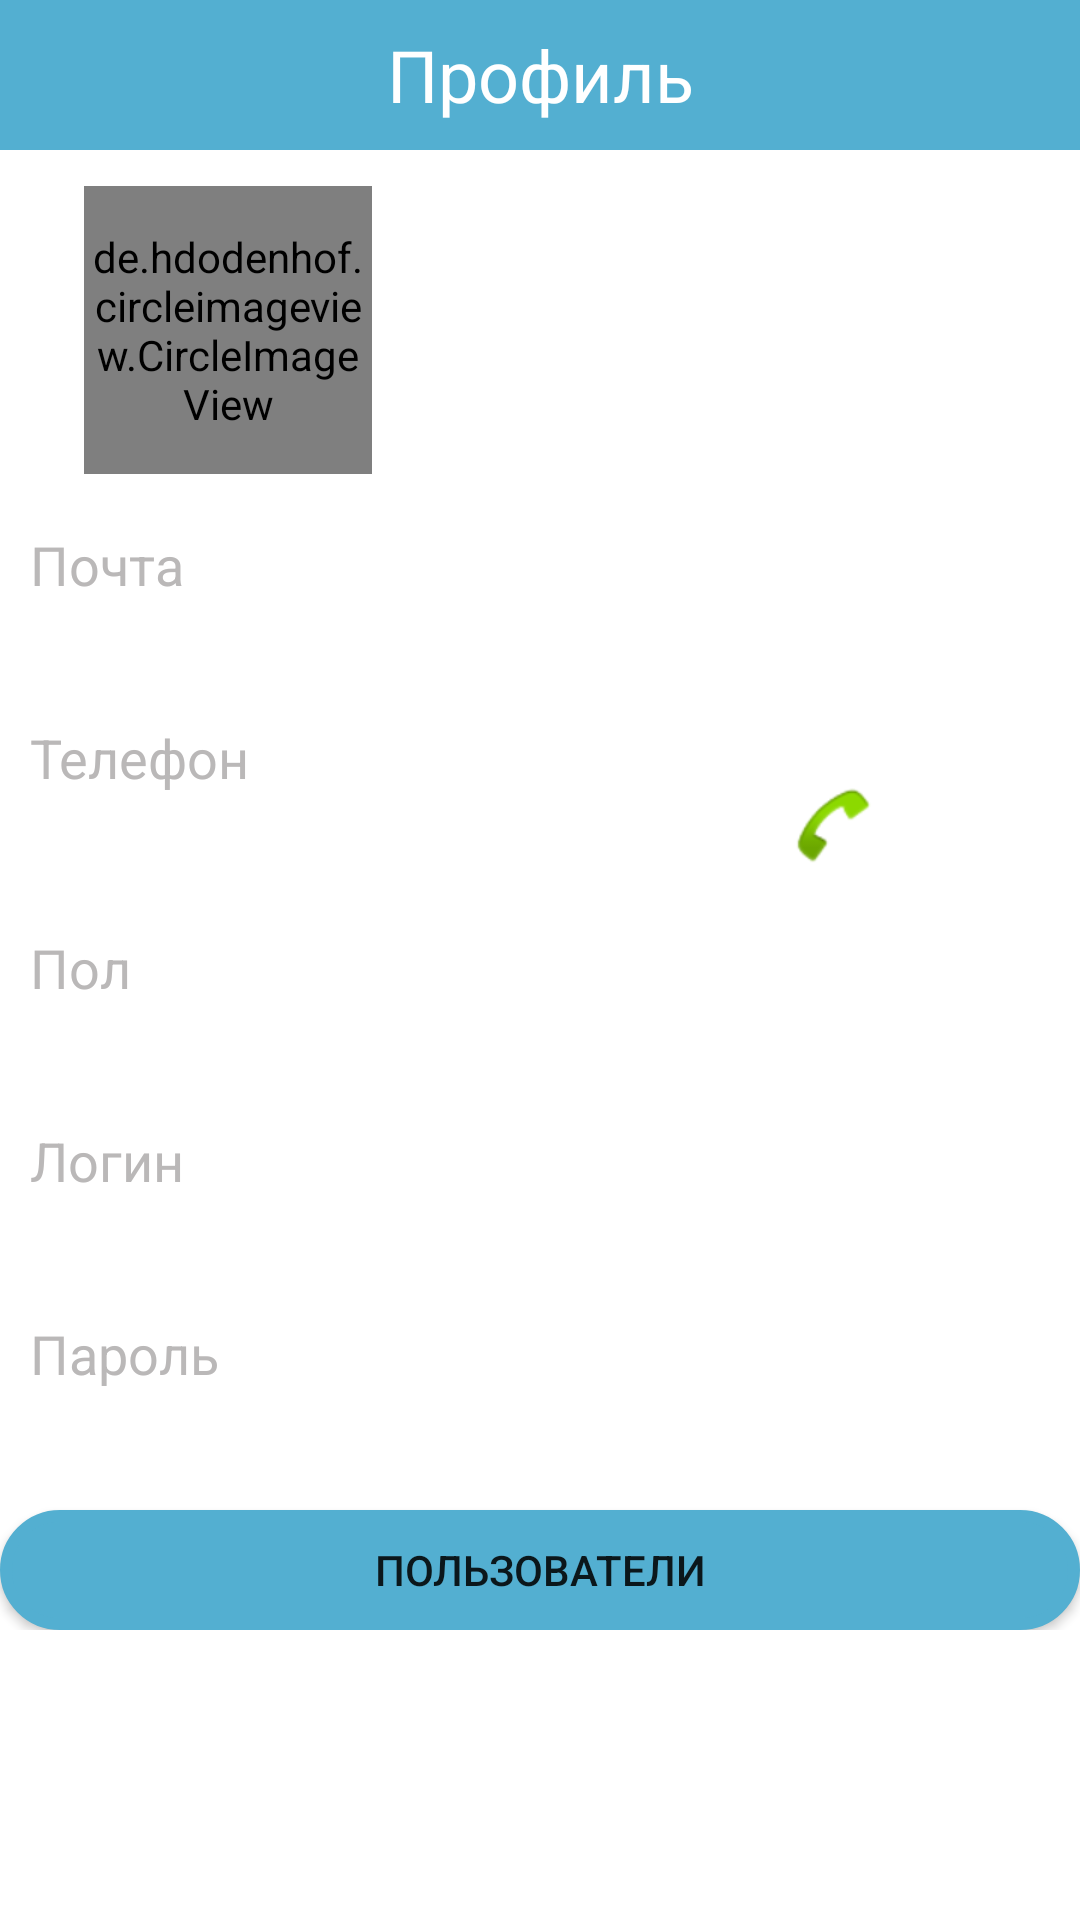

Screen size 1080 × 1920. Icon name, then its center in pixels as [x,y]:
sym action call: [833,825]
